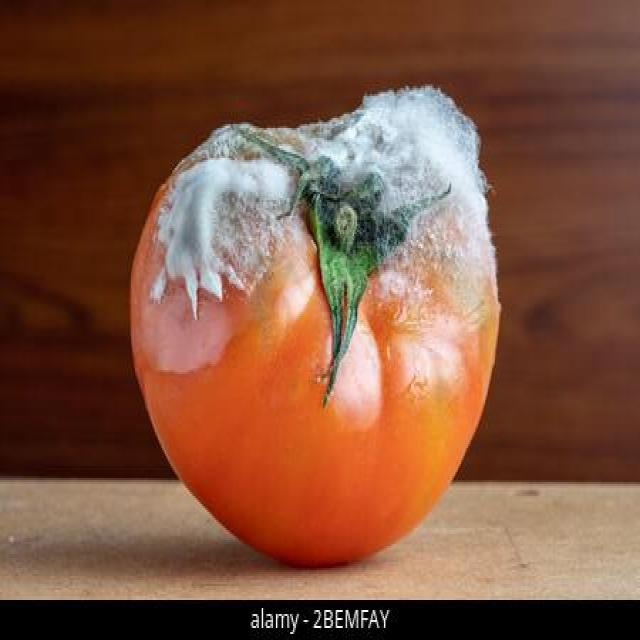Rotten: (126, 84, 501, 567)
